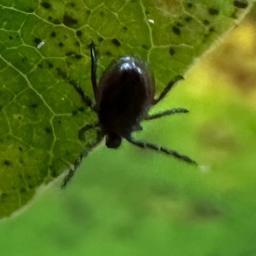Ixodes scapularis: (71, 49, 199, 165)
